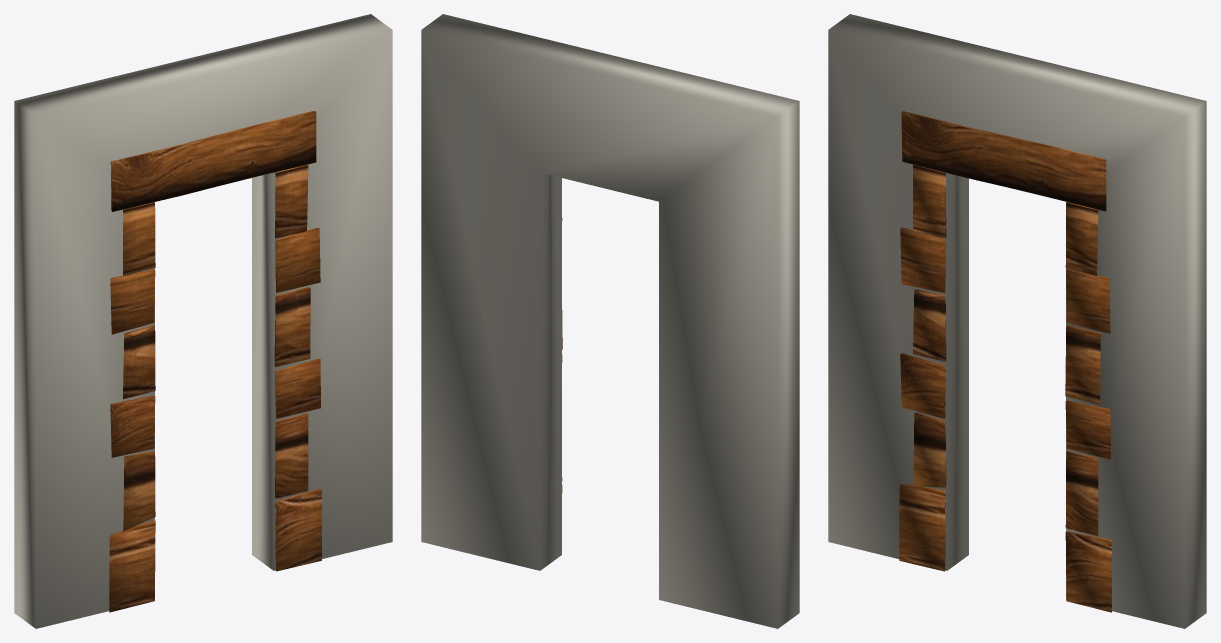
The model's file is white doorway with wood.glb.
3 views of the same model, side by side, from view 1: azimuth 30°, elevation 25°; view 2: azimuth 150°, elevation 25°; view 3: azimuth 330°, elevation 25° (orthographic).
Visible parts, largest first — view 1: Rectangle Door Wall.001; view 2: Rectangle Door Wall.001; view 3: Rectangle Door Wall.001.
Boxes of the visible parts, x1,y1,x2,y2 form: Rectangle Door Wall.001: [14, 14, 392, 628]; Rectangle Door Wall.001: [421, 14, 799, 628]; Rectangle Door Wall.001: [828, 14, 1206, 628].
Bounding box in the file's own units: 2 × 2.75 × 0.2223.
2 materials, 1 textured.
